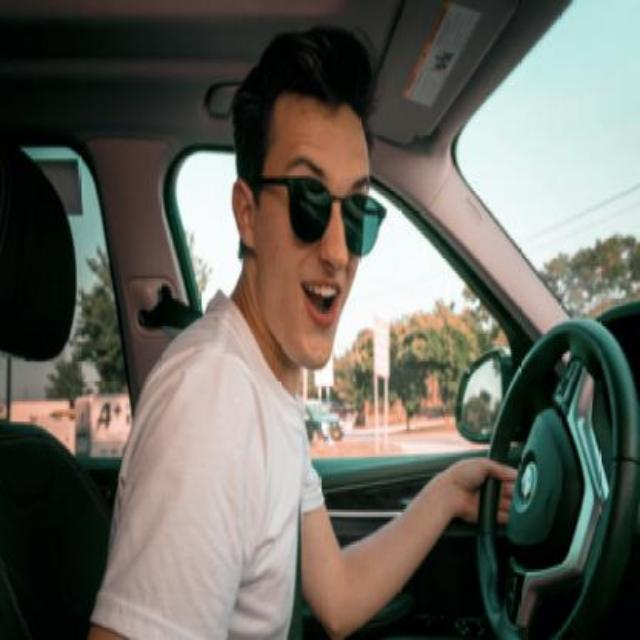glasses: (244, 170, 386, 256)
